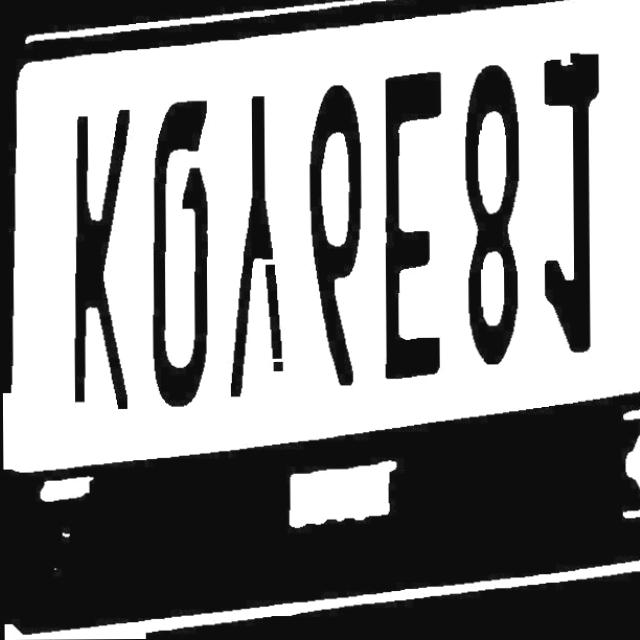1: (542, 56, 611, 352)
6: (304, 86, 368, 390)
8: (463, 70, 527, 368)
e: (379, 77, 446, 379)
k: (67, 107, 137, 414)
q: (146, 104, 215, 409)
y: (225, 95, 293, 396)
